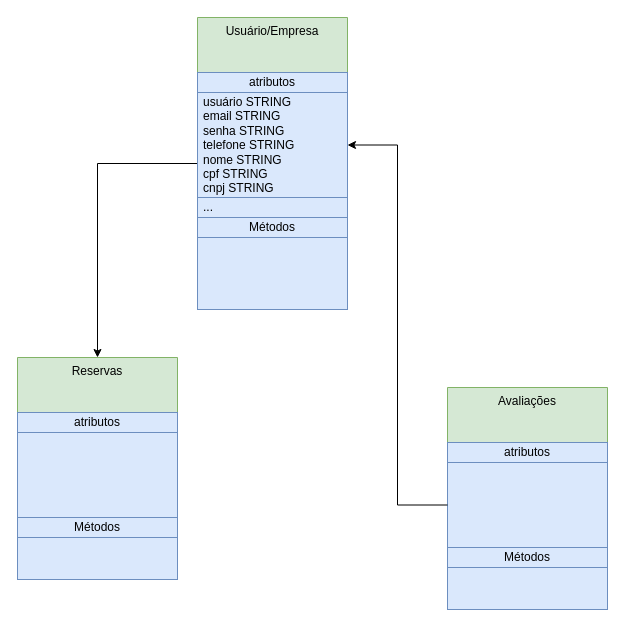
The diagram is 625 pixels wide and 627 high, and some of its shapes have lost their labels. The centre of each missing label's shape, as x and y in pixels:
"avaliar () comentar ()" belongs at pixel 527 588.
"cadastrar () reservar () pagar ()" belongs at pixel 272 273.
"classificaçao INT comentarios STRING" belongs at pixel 527 505.
"data DATE hora_inicio DATE hora_termino DATE status VARCHAR valor DOUBLE" belongs at pixel 97 475.
"receber () reservar ()" belongs at pixel 97 558.
